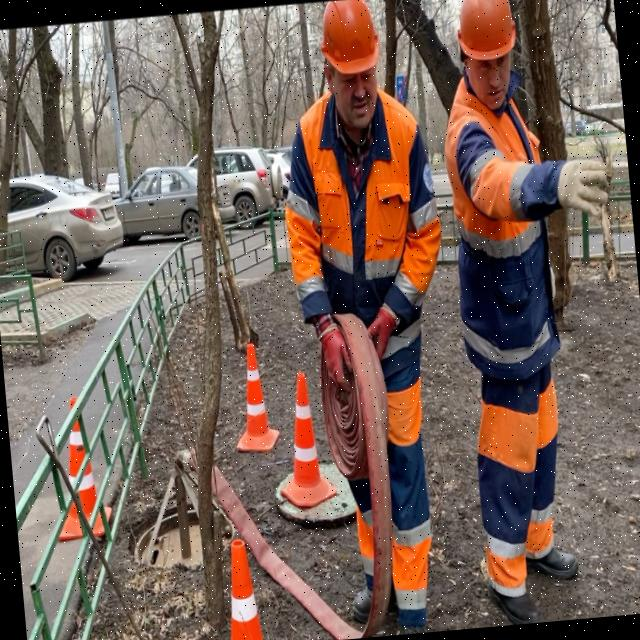Helmet: (315, 1, 384, 85), (454, 1, 518, 73)
Jacket: (297, 90, 430, 319), (447, 81, 552, 344)
